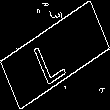L_NW: (35, 25, 75, 85)
